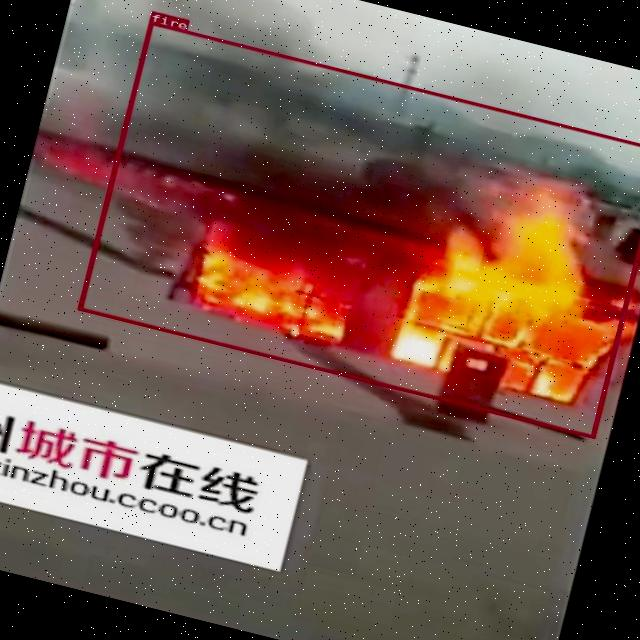fire: (76, 20, 640, 437)
